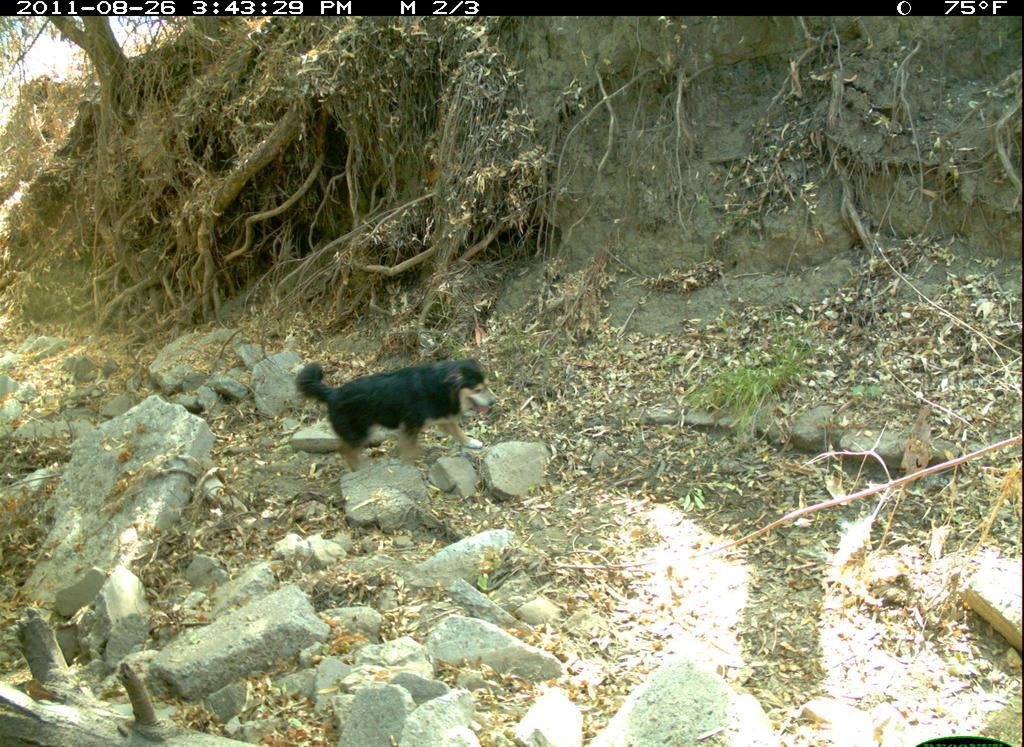dog: (289, 324, 502, 483)
